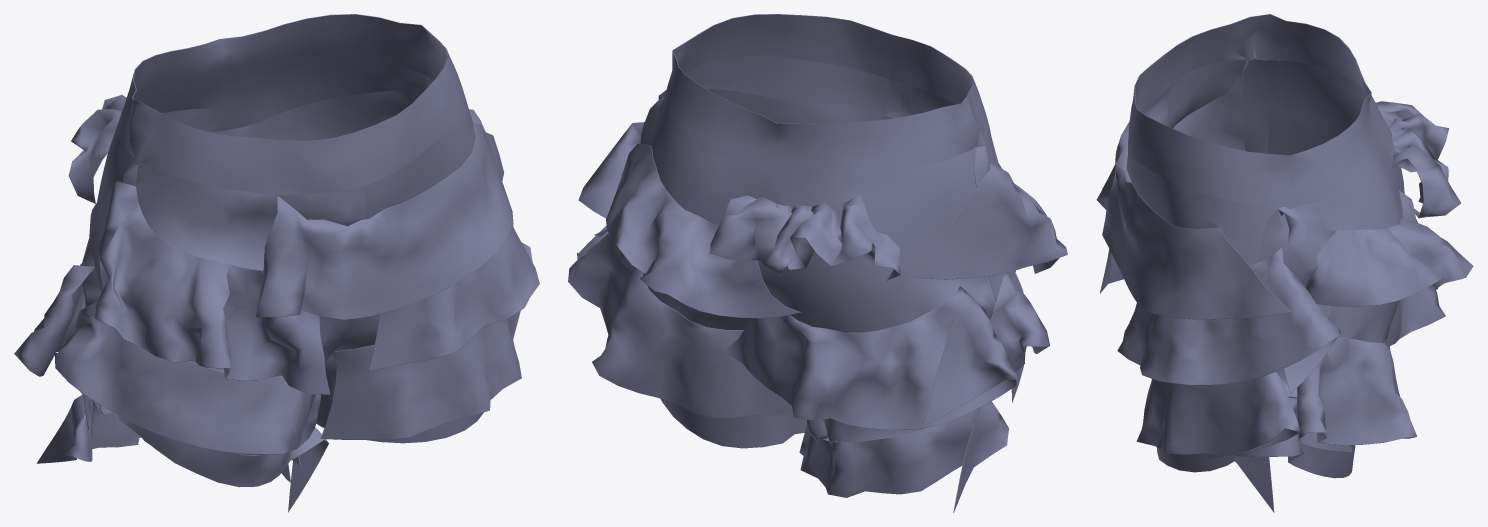
3 views of the same model, side by side, from view 1: azimuth 30°, elevation 25°; view 2: azimuth 150°, elevation 25°; view 3: azimuth 270°, elevation 25° (orthographic). The views are drawn at different scales.
Visible parts, largest first — view 1: Pattern2D_523325, Pattern2D_3805023, Pattern2D_3805022, Pattern2D_1055682, Pattern2D_3805025, Pattern2D_3805019, Pattern2D_1027841, Pattern2D_3805021, Pattern2D_3805020, Pattern2D_3805024, Pattern2D_1028449, Pattern2D_3805030 (+2 smaller); view 2: Pattern2D_523325, Pattern2D_3805031, Pattern2D_1028449, Pattern2D_3805028, Pattern2D_3805026, Pattern2D_3805030, Pattern2D_3805029, Pattern2D_3805020, Pattern2D_3805022, Pattern2D_3805019, Pattern2D_3805027, Pattern2D_1055682 (+2 smaller); view 3: Pattern2D_523325, Pattern2D_3805021, Pattern2D_3805023, Pattern2D_3805026, Pattern2D_3805025, Pattern2D_3805028, Pattern2D_1028449, Pattern2D_3805019, Pattern2D_3805020, Pattern2D_1027841, Pattern2D_3805029, Pattern2D_3805027 (+2 smaller).
Part boxes in pixels (bbox=[...]): Pattern2D_523325: bbox=[117, 14, 466, 194]; Pattern2D_3805023: bbox=[256, 123, 513, 319]; Pattern2D_3805022: bbox=[89, 181, 330, 394]; Pattern2D_1055682: bbox=[54, 301, 321, 454]; Pattern2D_3805025: bbox=[320, 242, 532, 439]; Pattern2D_3805019: bbox=[211, 55, 430, 141]; Pattern2D_1027841: bbox=[120, 160, 366, 455]; Pattern2D_3805021: bbox=[368, 109, 539, 371]; Pattern2D_3805020: bbox=[316, 76, 483, 443]; Pattern2D_3805024: bbox=[83, 394, 328, 512]; Pattern2D_1028449: bbox=[82, 84, 222, 414]; Pattern2D_3805030: bbox=[36, 394, 290, 482]; Pattern2D_523325: bbox=[662, 14, 989, 177]; Pattern2D_3805031: bbox=[724, 286, 1017, 429]; Pattern2D_1028449: bbox=[758, 146, 995, 442]; Pattern2D_3805028: bbox=[568, 233, 792, 417]; Pattern2D_3805026: bbox=[606, 144, 800, 318]; Pattern2D_3805030: bbox=[799, 401, 1008, 512]; Pattern2D_3805029: bbox=[710, 195, 900, 280]; Pattern2D_3805020: bbox=[686, 55, 890, 123]; Pattern2D_3805022: bbox=[910, 161, 1067, 279]; Pattern2D_3805019: bbox=[640, 90, 764, 329]; Pattern2D_3805027: bbox=[660, 398, 806, 448]; Pattern2D_1055682: bbox=[990, 273, 1049, 371]; Pattern2D_523325: bbox=[1128, 14, 1381, 209]; Pattern2D_3805021: bbox=[1117, 247, 1340, 393]; Pattern2D_3805023: bbox=[1098, 121, 1290, 319]; Pattern2D_3805026: bbox=[1305, 190, 1473, 317]; Pattern2D_3805025: bbox=[1136, 371, 1300, 458]; Pattern2D_3805028: bbox=[1297, 336, 1416, 452]; Pattern2D_1028449: bbox=[1242, 58, 1404, 193]; Pattern2D_3805019: bbox=[1258, 143, 1402, 398]; Pattern2D_3805020: bbox=[1128, 148, 1291, 472]; Pattern2D_1027841: bbox=[1126, 59, 1251, 179]; Pattern2D_3805029: bbox=[1376, 101, 1460, 218]; Pattern2D_3805027: bbox=[1230, 397, 1355, 512].
Bounding box in the file's own units: 49.61 × 42.49 × 35.72.
